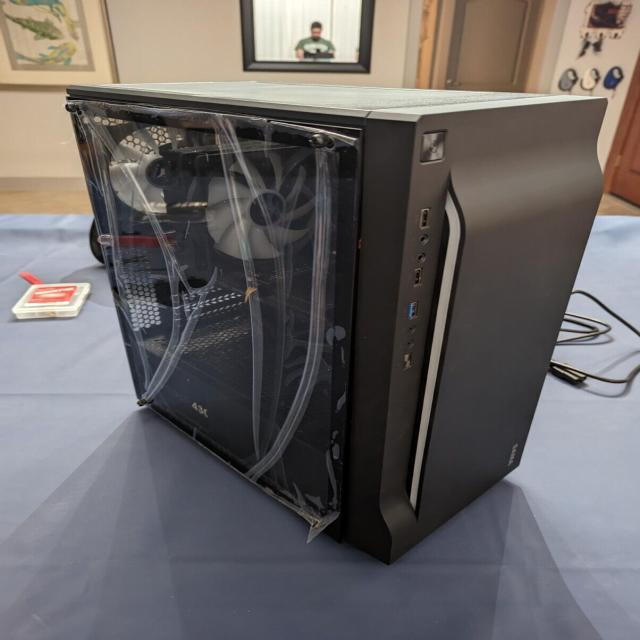Desktop-PC: (61, 61, 622, 562)
